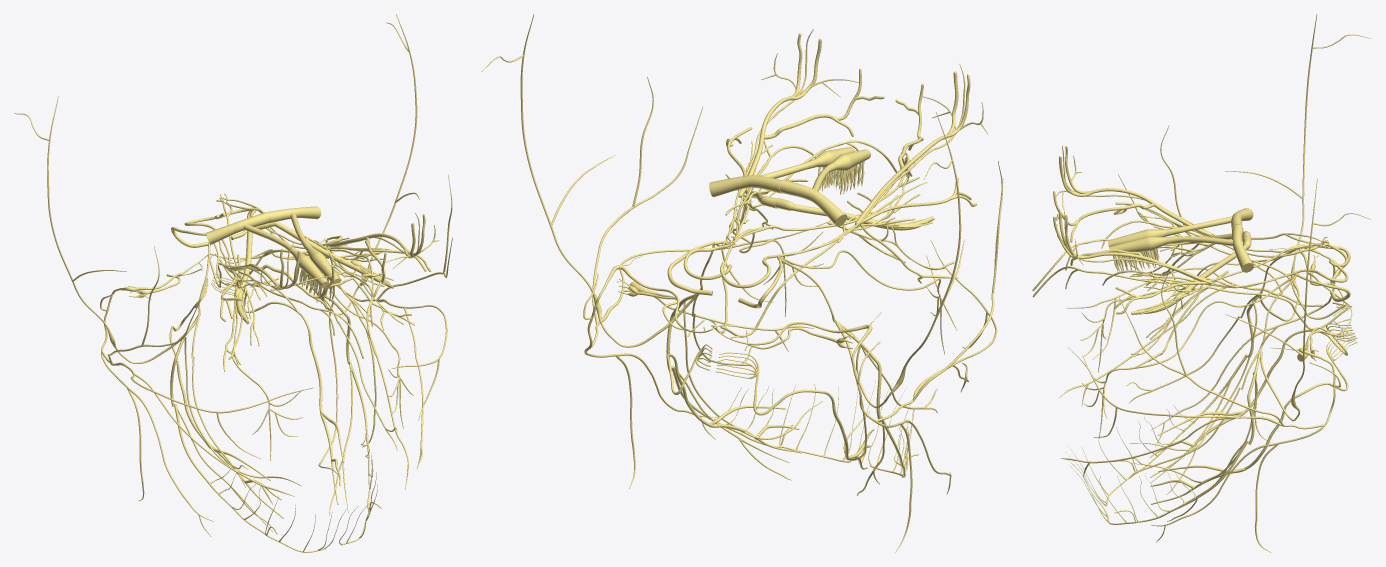
Rendered from nerfs-tete.hi.glb.
3 renders of one model, left to right at view 1: azimuth 30°, elevation 25°; view 2: azimuth 150°, elevation 25°; view 3: azimuth 270°, elevation 25°, orthographic. The views are drawn at different scales.
Visible parts, largest first — view 1: ZA-facial-nerve-vii-d, ZA-facial-nerve-vii-g, ZA-olfactory-nerve-i-d, ZA-olfactory-nerve-i-g, ZA-hypoglossal-nerve-xii-g, ZA-hypoglossal-nerve-xii-d, ZA-meningeal-branch-of-maxillary-nerve-d, ZA-inferior-alveolar-nerve-d, ZA-meningeal-branch-of-maxillary-nerve-g, ZA-inferior-alveolar-nerve-g, ZA-oculomotor-nerve-iii-g, ZA-maxillary-nerve-d (+3 smaller); view 2: ZA-facial-nerve-vii-g, ZA-facial-nerve-vii-d, ZA-olfactory-nerve-i-d, ZA-olfactory-nerve-i-g, ZA-meningeal-branch-of-maxillary-nerve-g, ZA-hypoglossal-nerve-xii-g, ZA-hypoglossal-nerve-xii-d, ZA-meningeal-branch-of-maxillary-nerve-d, ZA-inferior-alveolar-nerve-g, ZA-oculomotor-nerve-iii-d, ZA-ophthalmic-nerve-d, ZA-optic-nerve-ii-d (+8 smaller); view 3: ZA-facial-nerve-vii-g, ZA-facial-nerve-vii-d, ZA-olfactory-nerve-i-g, ZA-hypoglossal-nerve-xii-g, ZA-olfactory-nerve-i-d, ZA-hypoglossal-nerve-xii-d, ZA-meningeal-branch-of-maxillary-nerve-d, ZA-meningeal-branch-of-maxillary-nerve-g, ZA-inferior-alveolar-nerve-g, ZA-inferior-alveolar-nerve-d, ZA-oculomotor-nerve-iii-g, ZA-maxillary-nerve-g (+17 smaller).
Part boxes in pixels (bbox=[...]): ZA-facial-nerve-vii-d: bbox=[100, 246, 313, 536]; ZA-facial-nerve-vii-g: bbox=[212, 174, 452, 489]; ZA-olfactory-nerve-i-d: bbox=[205, 212, 328, 303]; ZA-olfactory-nerve-i-g: bbox=[267, 206, 340, 301]; ZA-hypoglossal-nerve-xii-g: bbox=[211, 273, 343, 504]; ZA-hypoglossal-nerve-xii-d: bbox=[169, 277, 283, 518]; ZA-meningeal-branch-of-maxillary-nerve-d: bbox=[14, 96, 200, 363]; ZA-inferior-alveolar-nerve-d: bbox=[173, 404, 346, 552]; ZA-meningeal-branch-of-maxillary-nerve-g: bbox=[316, 14, 419, 315]; ZA-inferior-alveolar-nerve-g: bbox=[339, 361, 381, 545]; ZA-oculomotor-nerve-iii-g: bbox=[223, 193, 414, 330]; ZA-maxillary-nerve-d: bbox=[213, 243, 302, 461]; ZA-facial-nerve-vii-g: bbox=[583, 76, 830, 488]; ZA-facial-nerve-vii-d: bbox=[716, 161, 1003, 552]; ZA-olfactory-nerve-i-d: bbox=[780, 149, 870, 226]; ZA-olfactory-nerve-i-g: bbox=[709, 147, 855, 197]; ZA-meningeal-branch-of-maxillary-nerve-g: bbox=[481, 14, 703, 347]; ZA-hypoglossal-nerve-xii-g: bbox=[666, 344, 801, 453]; ZA-hypoglossal-nerve-xii-d: bbox=[715, 352, 874, 469]; ZA-meningeal-branch-of-maxillary-nerve-d: bbox=[835, 112, 964, 408]; ZA-inferior-alveolar-nerve-g: bbox=[671, 365, 875, 462]; ZA-oculomotor-nerve-iii-d: bbox=[729, 172, 958, 283]; ZA-ophthalmic-nerve-d: bbox=[777, 63, 988, 259]; ZA-optic-nerve-ii-d: bbox=[775, 198, 934, 230]; ZA-facial-nerve-vii-g: bbox=[1061, 269, 1352, 552]; ZA-facial-nerve-vii-d: bbox=[1059, 125, 1351, 446]; ZA-olfactory-nerve-i-g: bbox=[1109, 224, 1253, 274]; ZA-hypoglossal-nerve-xii-g: bbox=[1150, 329, 1357, 504]; ZA-olfactory-nerve-i-d: bbox=[1107, 208, 1253, 266]; ZA-hypoglossal-nerve-xii-d: bbox=[1149, 323, 1357, 477]; ZA-meningeal-branch-of-maxillary-nerve-d: bbox=[1225, 14, 1371, 321]; ZA-meningeal-branch-of-maxillary-nerve-g: bbox=[1225, 178, 1371, 421]; ZA-inferior-alveolar-nerve-g: bbox=[1068, 440, 1248, 524]; ZA-inferior-alveolar-nerve-d: bbox=[1066, 354, 1248, 506]; ZA-oculomotor-nerve-iii-g: bbox=[1102, 239, 1329, 368]; ZA-maxillary-nerve-g: bbox=[1081, 274, 1296, 438].
Size of the model in its own units: 0.1558 by 0.1661 by 0.1231.
